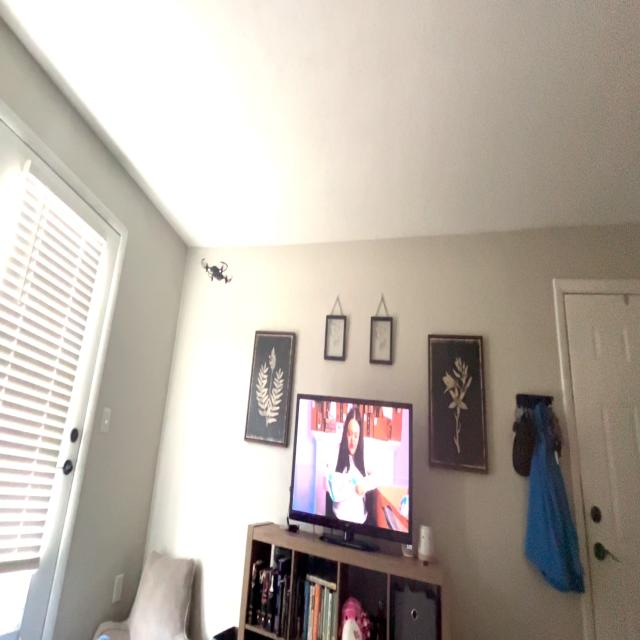drone: (194, 247, 234, 294)
